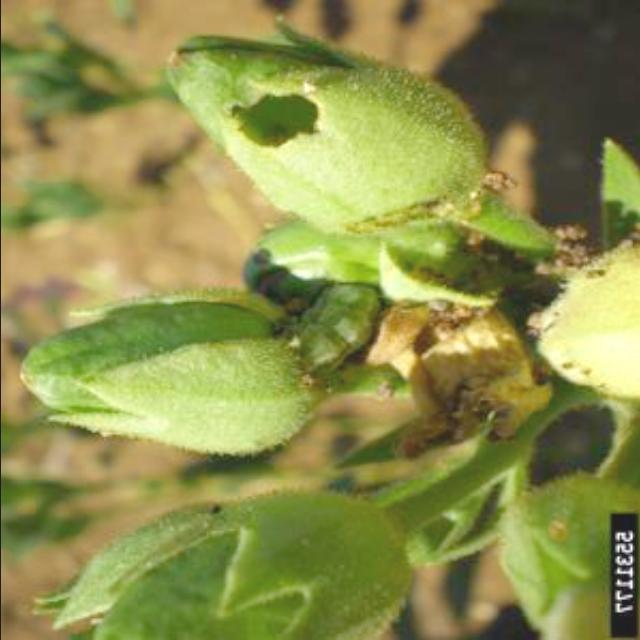Cotton bollworm: (223, 226, 394, 394)
